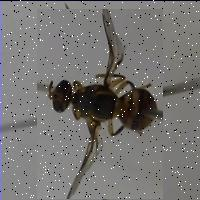Oriental-fruit-fly: (37, 8, 163, 198)
